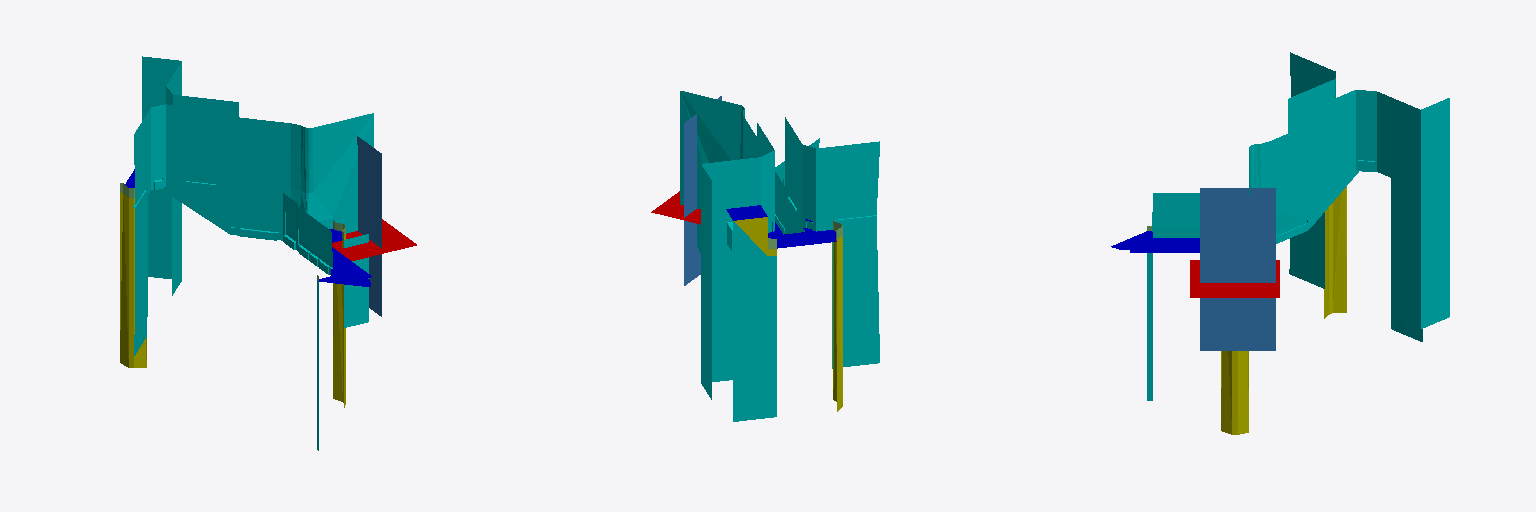
The model's file is STG0100_COLI_08.OBJ.
3 views of the same model, side by side, from view 1: azimuth 30°, elevation 25°; view 2: azimuth 150°, elevation 25°; view 3: azimuth 270°, elevation 25° (orthographic).
Parts seen in each view (by area): view 1: STG0100_COLI_08_[number redacted], STG0100_COLI_08_[number redacted], STG0100_COLI_08_[number redacted], STG0100_COLI_08_[number redacted], STG0100_COLI_08_[number redacted]; view 2: STG0100_COLI_08_[number redacted], STG0100_COLI_08_[number redacted], STG0100_COLI_08_[number redacted], STG0100_COLI_08_[number redacted], STG0100_COLI_08_[number redacted]; view 3: STG0100_COLI_08_[number redacted], STG0100_COLI_08_[number redacted], STG0100_COLI_08_[number redacted], STG0100_COLI_08_[number redacted], STG0100_COLI_08_[number redacted].
Part boxes in pixels (bbox=[...]): STG0100_COLI_08_[number redacted]: bbox=[133, 56, 373, 450]; STG0100_COLI_08_[number redacted]: bbox=[120, 193, 345, 407]; STG0100_COLI_08_[number redacted]: bbox=[357, 136, 381, 316]; STG0100_COLI_08_[number redacted]: bbox=[332, 219, 416, 260]; STG0100_COLI_08_[number redacted]: bbox=[125, 169, 371, 286]; STG0100_COLI_08_[number redacted]: bbox=[680, 91, 879, 421]; STG0100_COLI_08_[number redacted]: bbox=[734, 217, 842, 411]; STG0100_COLI_08_[number redacted]: bbox=[684, 96, 721, 285]; STG0100_COLI_08_[number redacted]: bbox=[726, 205, 836, 248]; STG0100_COLI_08_[number redacted]: bbox=[651, 191, 700, 224]; STG0100_COLI_08_[number redacted]: bbox=[1147, 52, 1449, 400]; STG0100_COLI_08_[number redacted]: bbox=[1200, 188, 1275, 350]; STG0100_COLI_08_[number redacted]: bbox=[1221, 186, 1346, 434]; STG0100_COLI_08_[number redacted]: bbox=[1190, 260, 1279, 297]; STG0100_COLI_08_[number redacted]: bbox=[1111, 231, 1199, 252].
Bounding box in the file's own units: 1498 × 1794 × 1885.